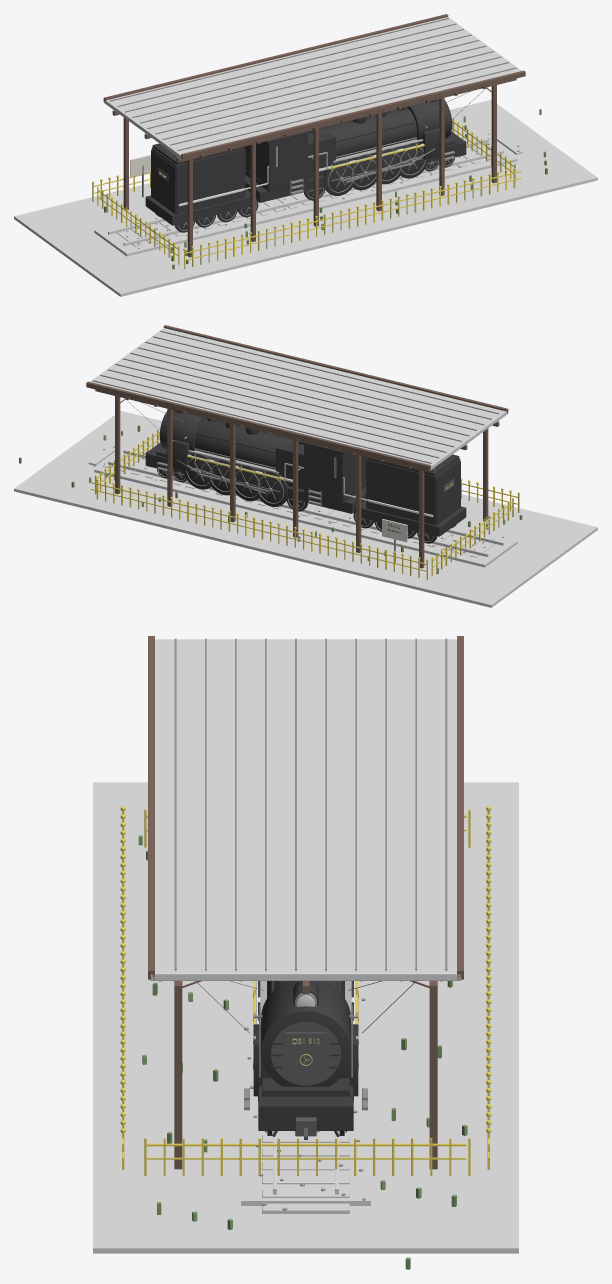
3 views of the same model, one above another, from view 1: azimuth 30°, elevation 25°; view 2: azimuth 150°, elevation 25°; view 3: azimuth 270°, elevation 25° (orthographic). The views are drawn at different scales.
Visible parts, largest first — view 1: Ground_Base, Shed_Roof_Main, Track_Bed, Tender_Body, Cab_Main, Boiler_Main, Shed_Roof_Edge_Back, Shed_Roof_Edge_Front, Tender_Frame, Tender_RearPlate, SmokeBox, Firebox (+28 smaller); view 2: Ground_Base, Shed_Roof_Main, Track_Bed, Tender_Body, Cab_Main, Boiler_Main, Shed_Roof_Edge_Front, Shed_Roof_Edge_Back, Tender_Frame, Tender_RearPlate, SmokeBox, Firebox (+29 smaller); view 3: Ground_Base, Shed_Roof_Main, Track_Bed, SmokeBox, Front_Beam, Front_Door, Shed_Roof_Edge_Front, Shed_Roof_Edge_Back, Shed_Post_5_1, Shed_Post_5_0, Front_Deck, SL_P3_Fence_RightEnd_TopRail (+4 smaller).
Part boxes in pixels (x1,y1,x2,y2): Ground_Base: [14, 100, 597, 296]; Shed_Roof_Main: [104, 17, 521, 159]; Track_Bed: [94, 135, 517, 256]; Tender_Body: [151, 147, 245, 214]; Cab_Main: [244, 134, 307, 192]; Boiler_Main: [313, 107, 417, 160]; Shed_Roof_Edge_Back: [181, 70, 525, 159]; Shed_Roof_Edge_Front: [103, 14, 448, 101]; Tender_Frame: [145, 189, 250, 225]; Tender_RearPlate: [151, 150, 175, 214]; SmokeBox: [406, 99, 452, 142]; Firebox: [308, 132, 335, 178]; Ground_Base: [14, 411, 597, 607]; Shed_Roof_Main: [90, 328, 507, 470]; Track_Bed: [94, 446, 517, 567]; Tender_Body: [366, 458, 460, 525]; Cab_Main: [304, 445, 367, 503]; Boiler_Main: [194, 418, 298, 471]; Shed_Roof_Edge_Front: [86, 381, 430, 470]; Shed_Roof_Edge_Back: [163, 325, 508, 413]; Tender_Frame: [361, 500, 466, 536]; Tender_RearPlate: [436, 461, 460, 525]; SmokeBox: [159, 410, 205, 453]; Firebox: [276, 443, 303, 489]; Ground_Base: [93, 782, 518, 1253]; Shed_Roof_Main: [150, 639, 461, 980]; Track_Bed: [241, 981, 370, 1205]; SmokeBox: [261, 981, 350, 1086]; Front_Beam: [258, 1087, 353, 1130]; Front_Door: [271, 1022, 340, 1085]; Shed_Roof_Edge_Front: [457, 636, 463, 979]; Shed_Roof_Edge_Back: [148, 636, 154, 979]; Shed_Post_5_1: [174, 981, 182, 1169]; Shed_Post_5_0: [429, 981, 437, 1169]; Front_Deck: [262, 1078, 349, 1096]; SL_P3_Fence_RightEnd_TopRail: [146, 1143, 466, 1146].
Size of the model in its own units: 23.03 by 4.97 by 8.5.
